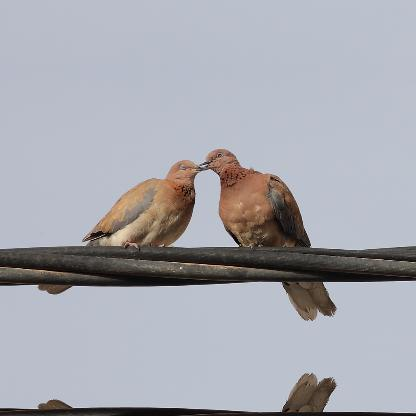Bird: (34, 154, 212, 298), (192, 146, 336, 304)
